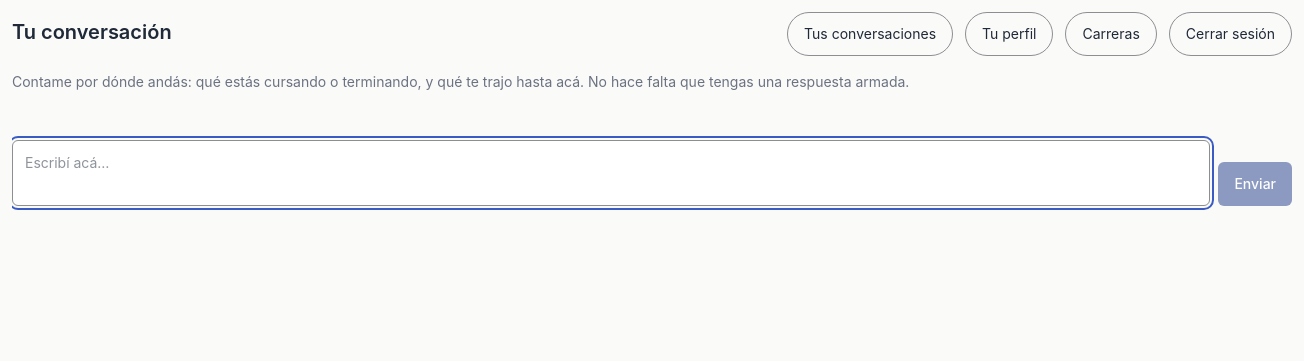
Test: Conversacion · continuidad de la sesión (HU-07) › un turno sin fuentes no dibuja el bloque
In the text box named "escribí tu mensaje": [611, 173] box [12,140,1210,206], type "Hola"
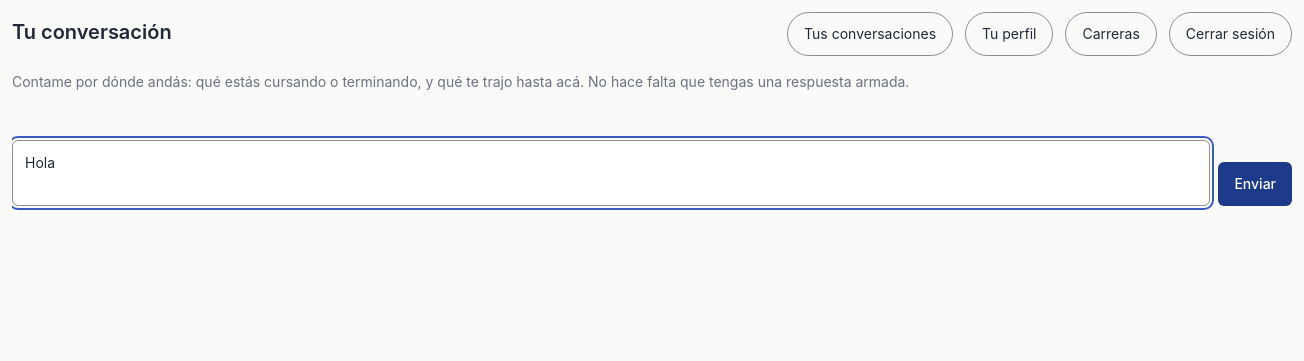
Click the button "Enviar": [1255, 184] box [1218,162,1292,206]
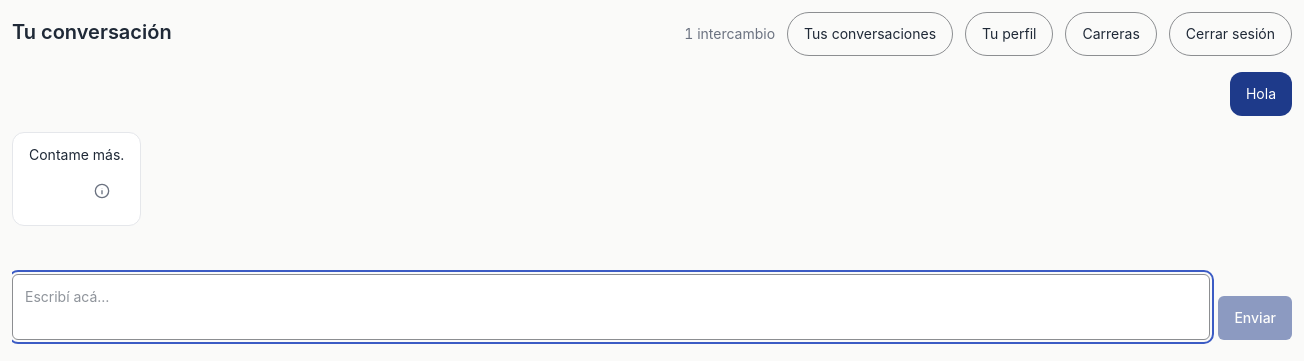
Expected: the text "Contame más." is shown, [29,145,124,165]
